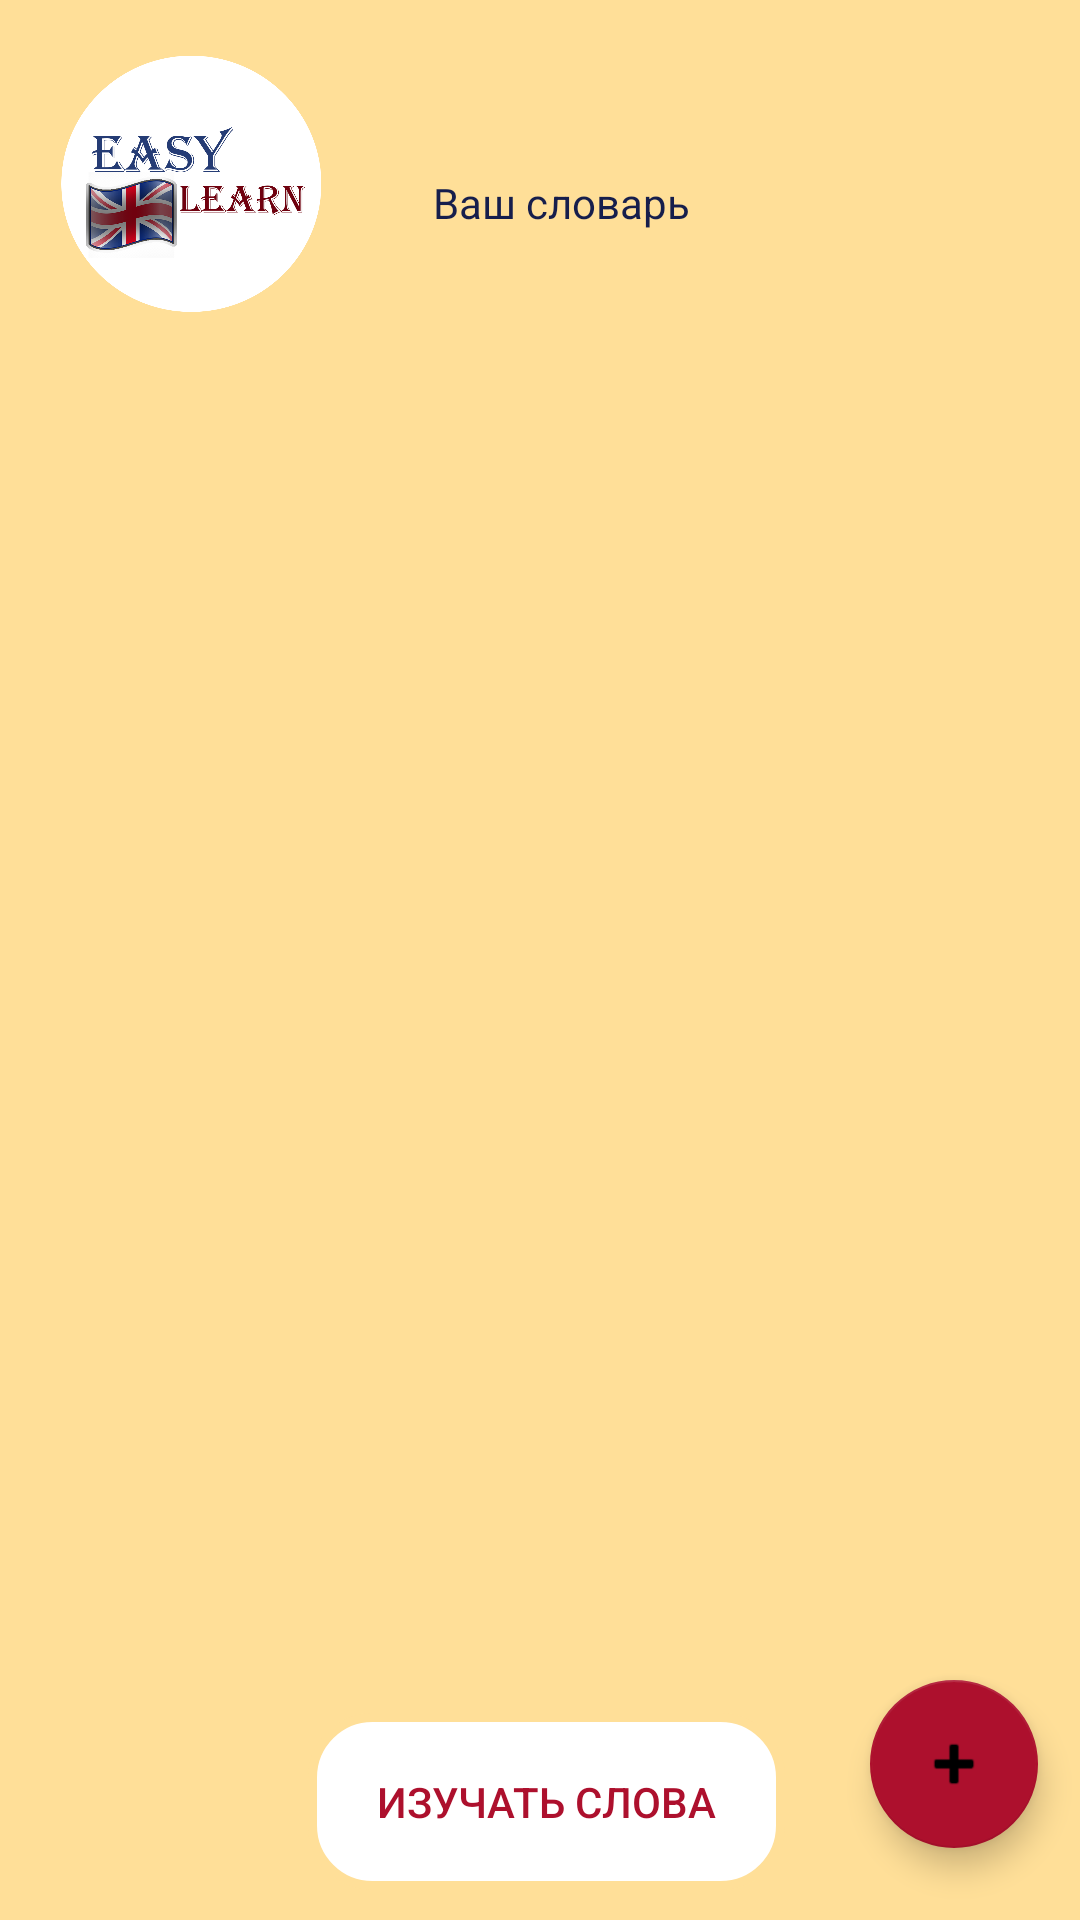

Where icons sit on this 1080 x 1920 app screen, as (x1, y1, x2, y2):
add: (870, 1680, 1038, 1848)
